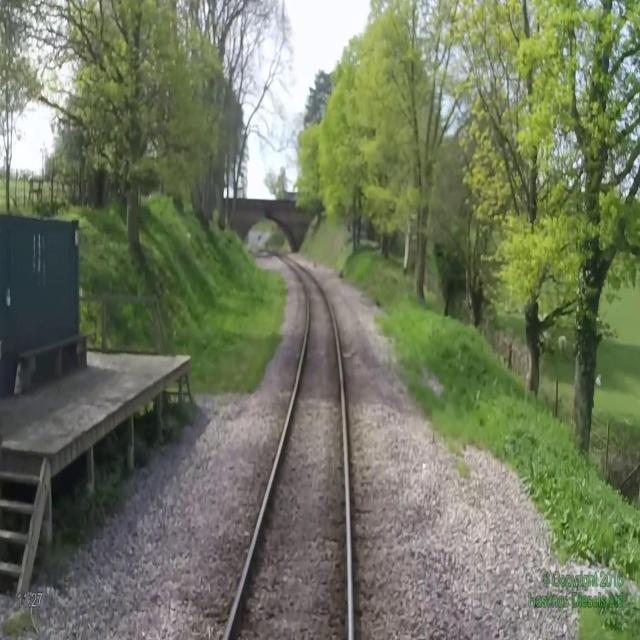rail-track: (228, 252, 348, 639)
